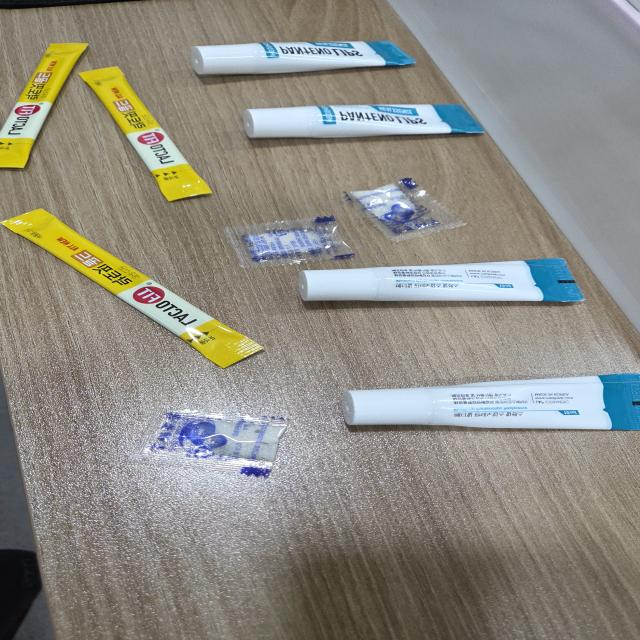lacto: (0, 209, 271, 374), (78, 60, 214, 206), (0, 41, 85, 171)
lib: (340, 372, 639, 434), (293, 258, 585, 312), (188, 29, 418, 84), (237, 102, 488, 143)
salt: (132, 404, 288, 480), (342, 177, 470, 247), (214, 213, 352, 276)
